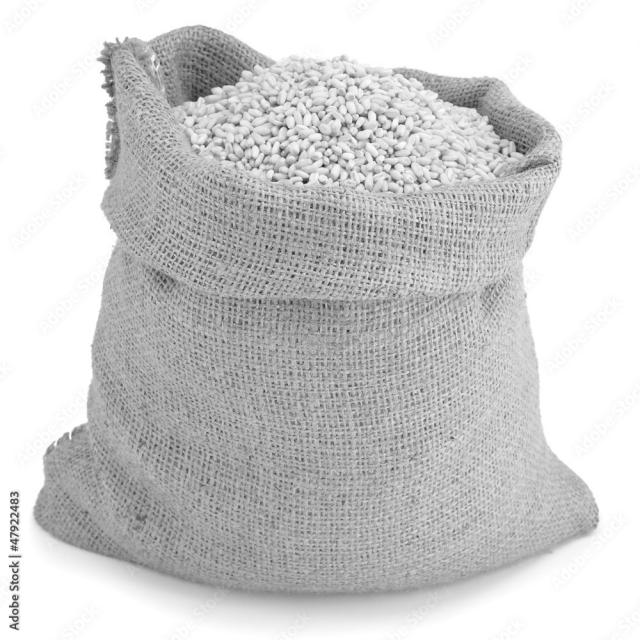sack: (34, 24, 598, 594)
